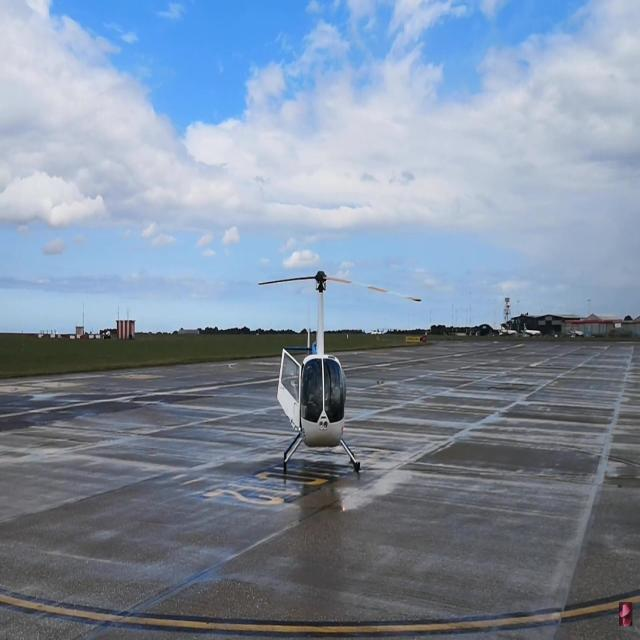CIV_HELO: (274, 270, 361, 477)
